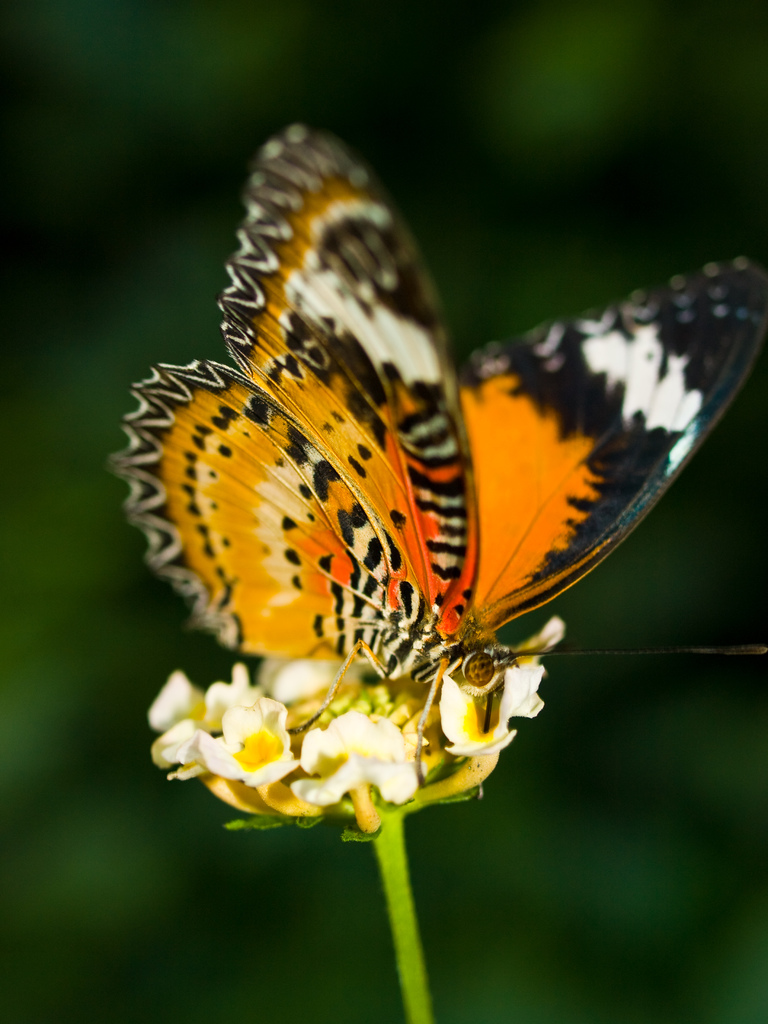Butterfly: (100, 115, 768, 734)
